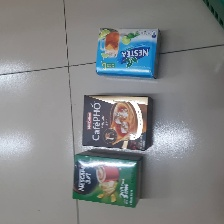CF pho: (81, 94, 154, 152)
Nes Rang: (73, 150, 144, 212)
Nestea: (94, 25, 163, 80)
